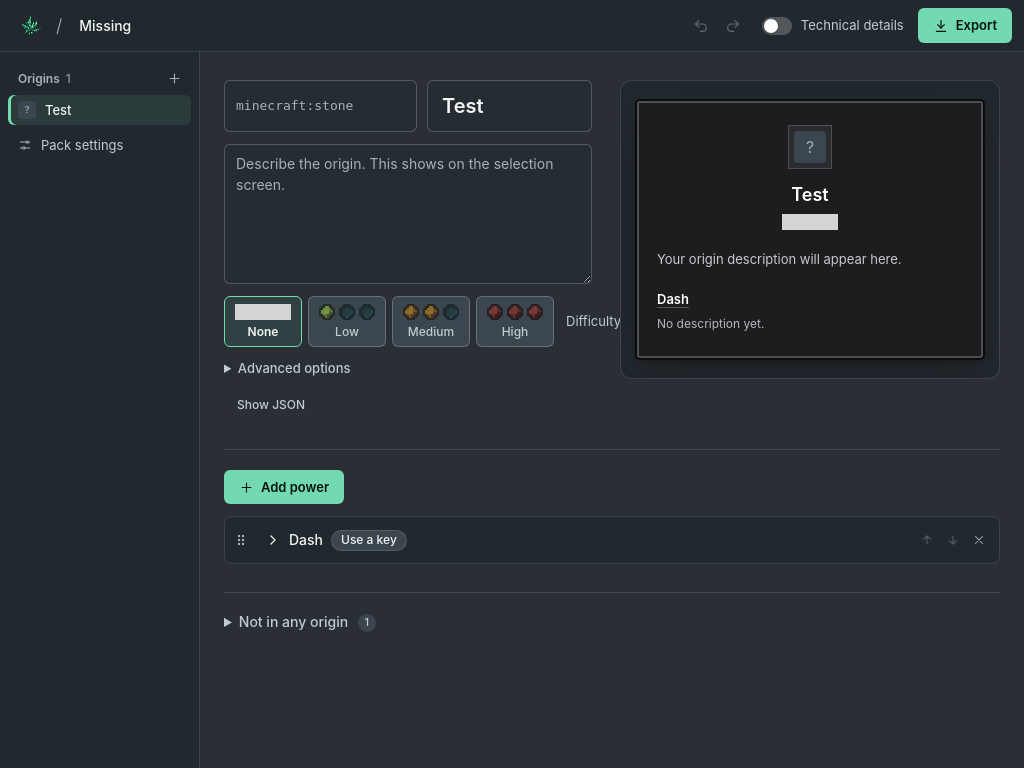
it: workshop › offers to grant a cooldown a power uses but the origin is missing
Click the button "Dash Use a key" at (306, 540), box top-left (259, 526), bottom-right (907, 555)
(page scrolled)
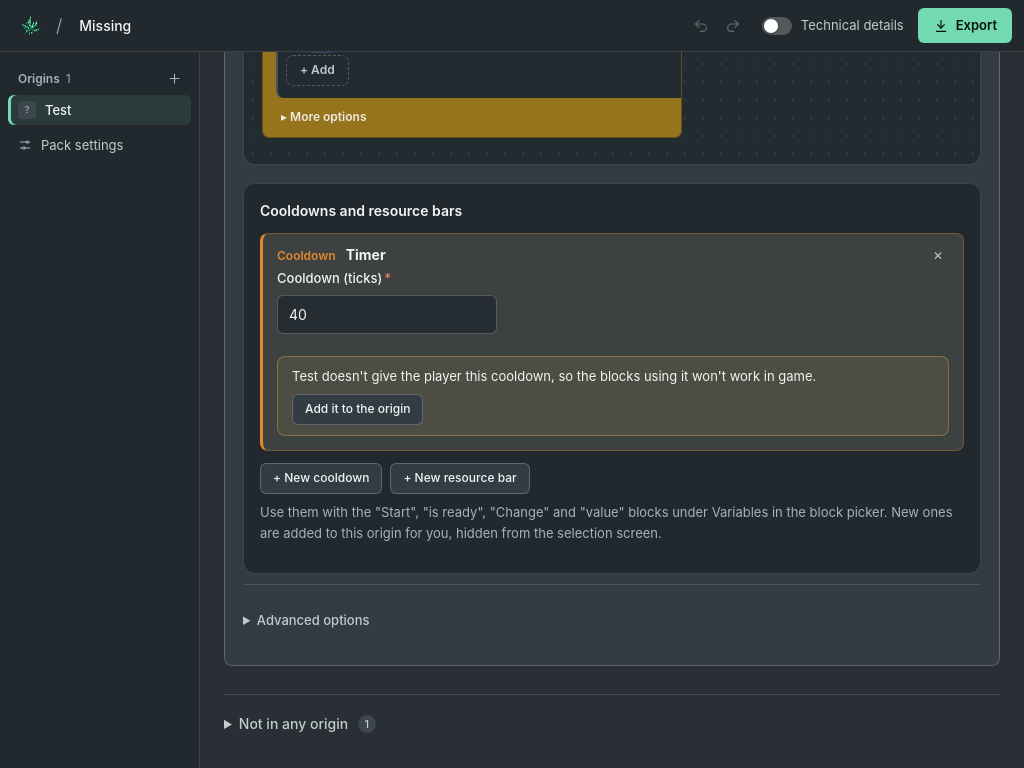
Click the button "Add it to the origin" at (358, 410), box top-left (292, 394), bottom-right (423, 425)
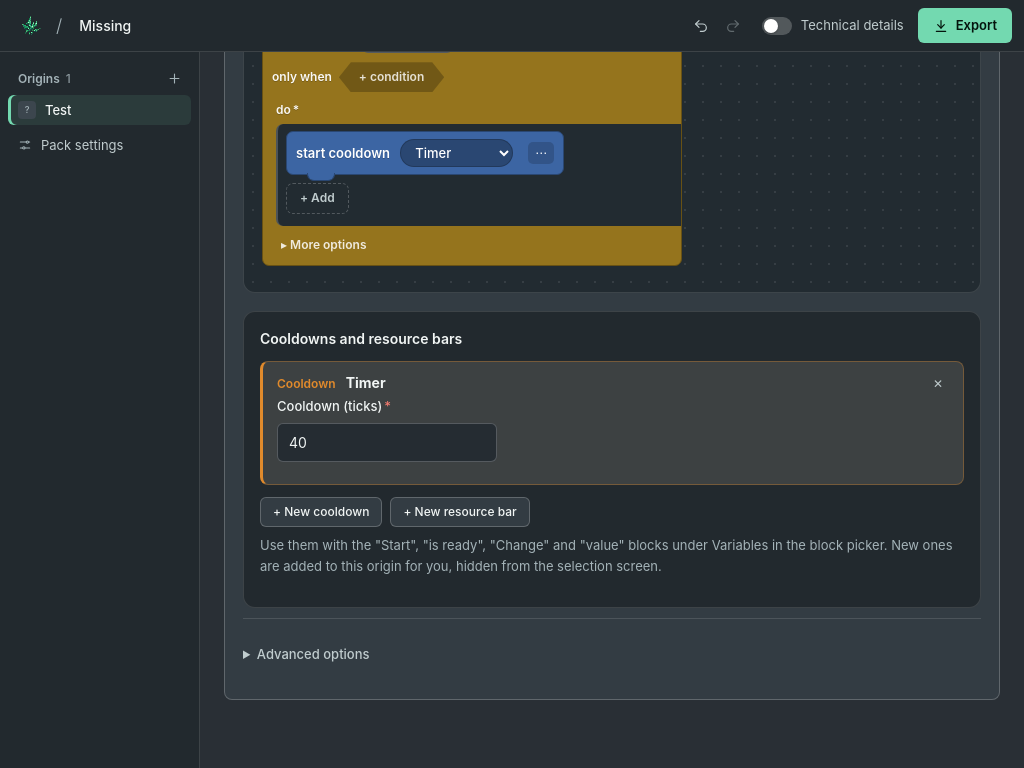
Now the heading "Not in any origin" is gone
